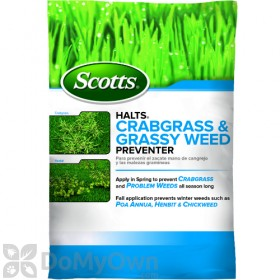crabgrass: (58, 113, 106, 152)
